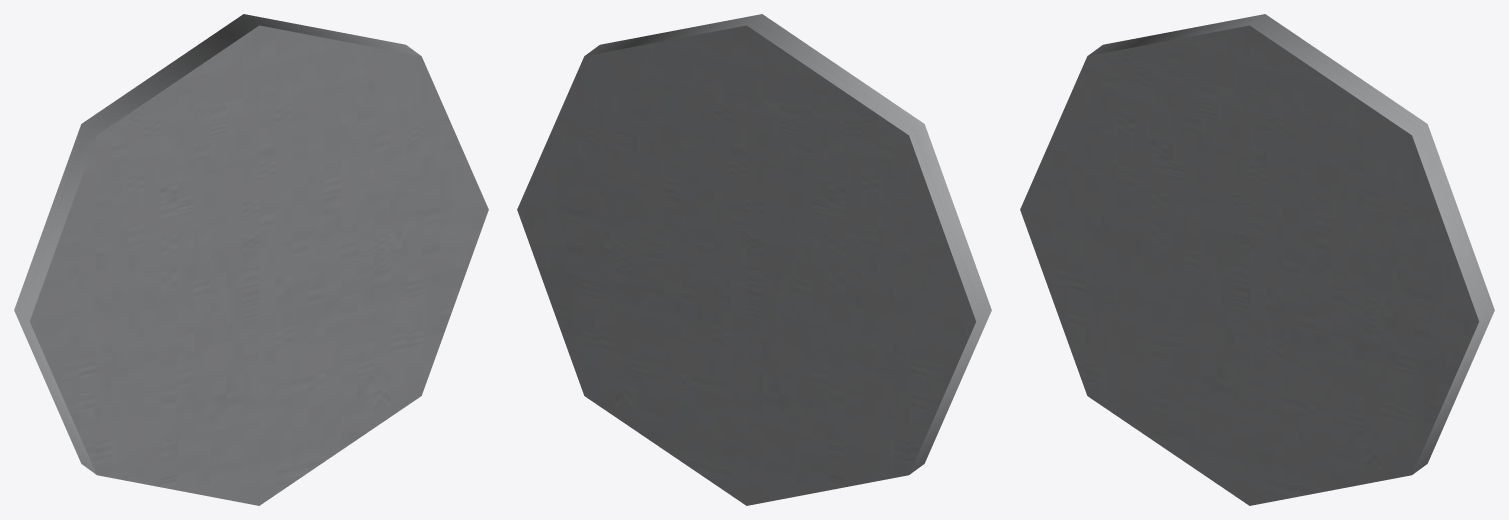
File: back2.obj
The picture shows the model from 3 angles, left to right: view 1: azimuth 30°, elevation 25°; view 2: azimuth 150°, elevation 25°; view 3: azimuth 330°, elevation 25°; orthographic projection.
Visible parts, largest first — view 1: toon_train.003_toon_train.008; view 2: toon_train.003_toon_train.008; view 3: toon_train.003_toon_train.008.
Boxes of the visible parts, left/top/right/bottom form: toon_train.003_toon_train.008: left=14, top=14, right=488, bottom=505; toon_train.003_toon_train.008: left=517, top=14, right=991, bottom=505; toon_train.003_toon_train.008: left=1020, top=14, right=1494, bottom=505.
Size of the model in its own units: 1.91 by 1.91 by 0.1126.
1 material, 1 textured.
